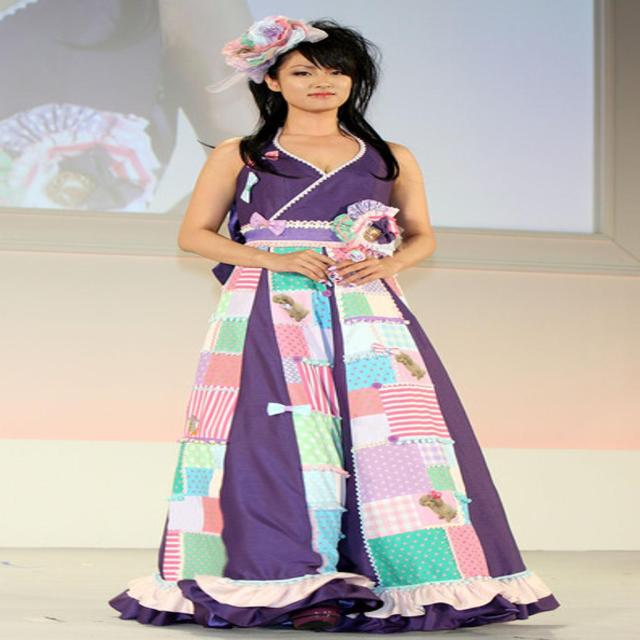Face: (266, 47, 374, 120)
